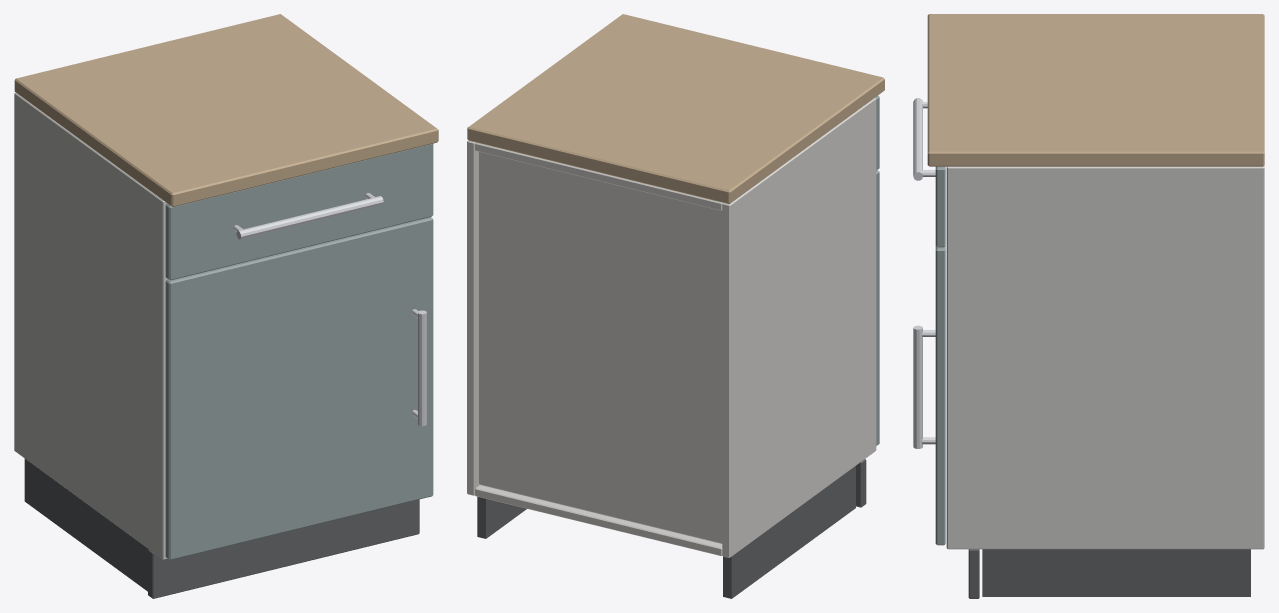
The model's file is fitted-kitchen-and-bathroom-builder-base-600-drawerlin-edbce05e__17807.glb.
3 views of the same model, side by side, from view 1: azimuth 30°, elevation 25°; view 2: azimuth 150°, elevation 25°; view 3: azimuth 270°, elevation 25° (orthographic). The views are drawn at different scales.
Parts seen in each view (by area): view 1: base-600-drawerline, door-left/front, drawer-1/front, drawer-1/metal, door-left/metal; view 2: base-600-drawerline, door-left/front; view 3: base-600-drawerline, door-left/front, door-left/metal, drawer-1/metal, drawer-1/front.
Part boxes in pixels (box(x1,y1,x2,y2)): base-600-drawerline: box(14, 14, 438, 598); door-left/front: box(165, 217, 433, 560); drawer-1/front: box(165, 143, 433, 280); drawer-1/metal: box(233, 193, 383, 239); door-left/metal: box(411, 309, 426, 426); base-600-drawerline: box(467, 14, 884, 598); door-left/front: box(876, 170, 879, 445); base-600-drawerline: box(927, 14, 1264, 598); door-left/front: box(935, 246, 945, 545); door-left/metal: box(913, 325, 935, 448); drawer-1/metal: box(913, 98, 935, 180); drawer-1/front: box(935, 166, 945, 247).
Bounding box in the file's own units: 0.6001 × 0.9 × 0.641.
